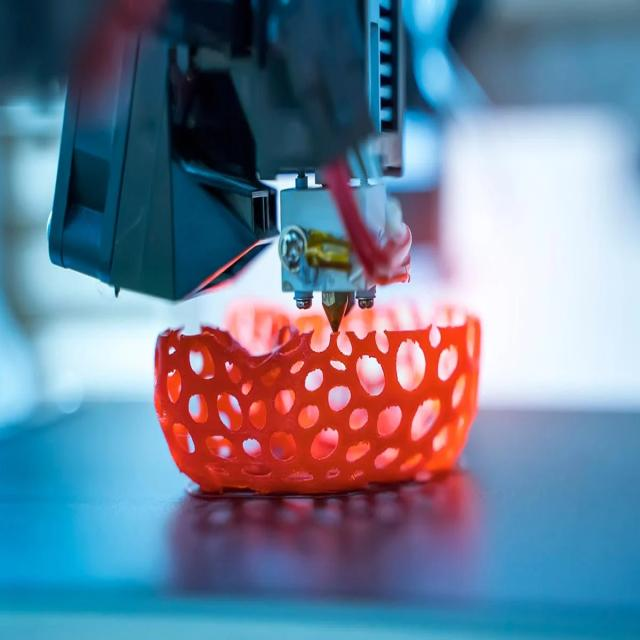Without deffect: (141, 310, 509, 496)
